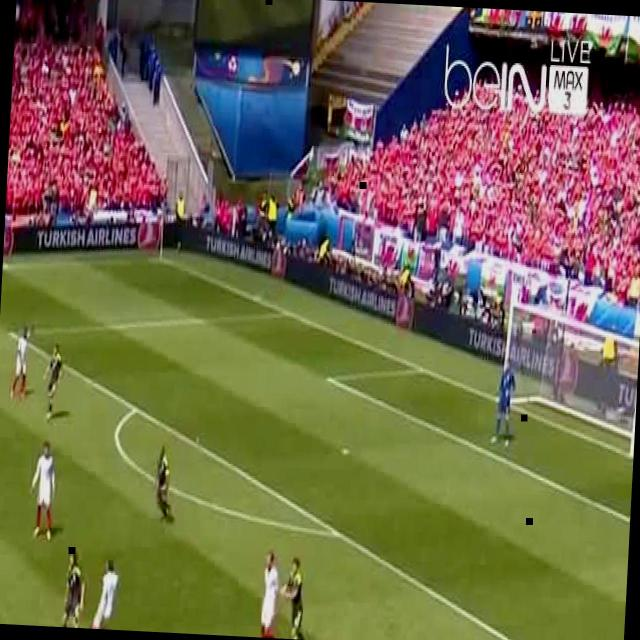player-white: (27, 442, 57, 540), (278, 558, 312, 640), (490, 359, 518, 448), (86, 558, 119, 630), (58, 550, 88, 628), (258, 548, 284, 638), (8, 324, 32, 401), (153, 446, 177, 522), (41, 344, 63, 421)
